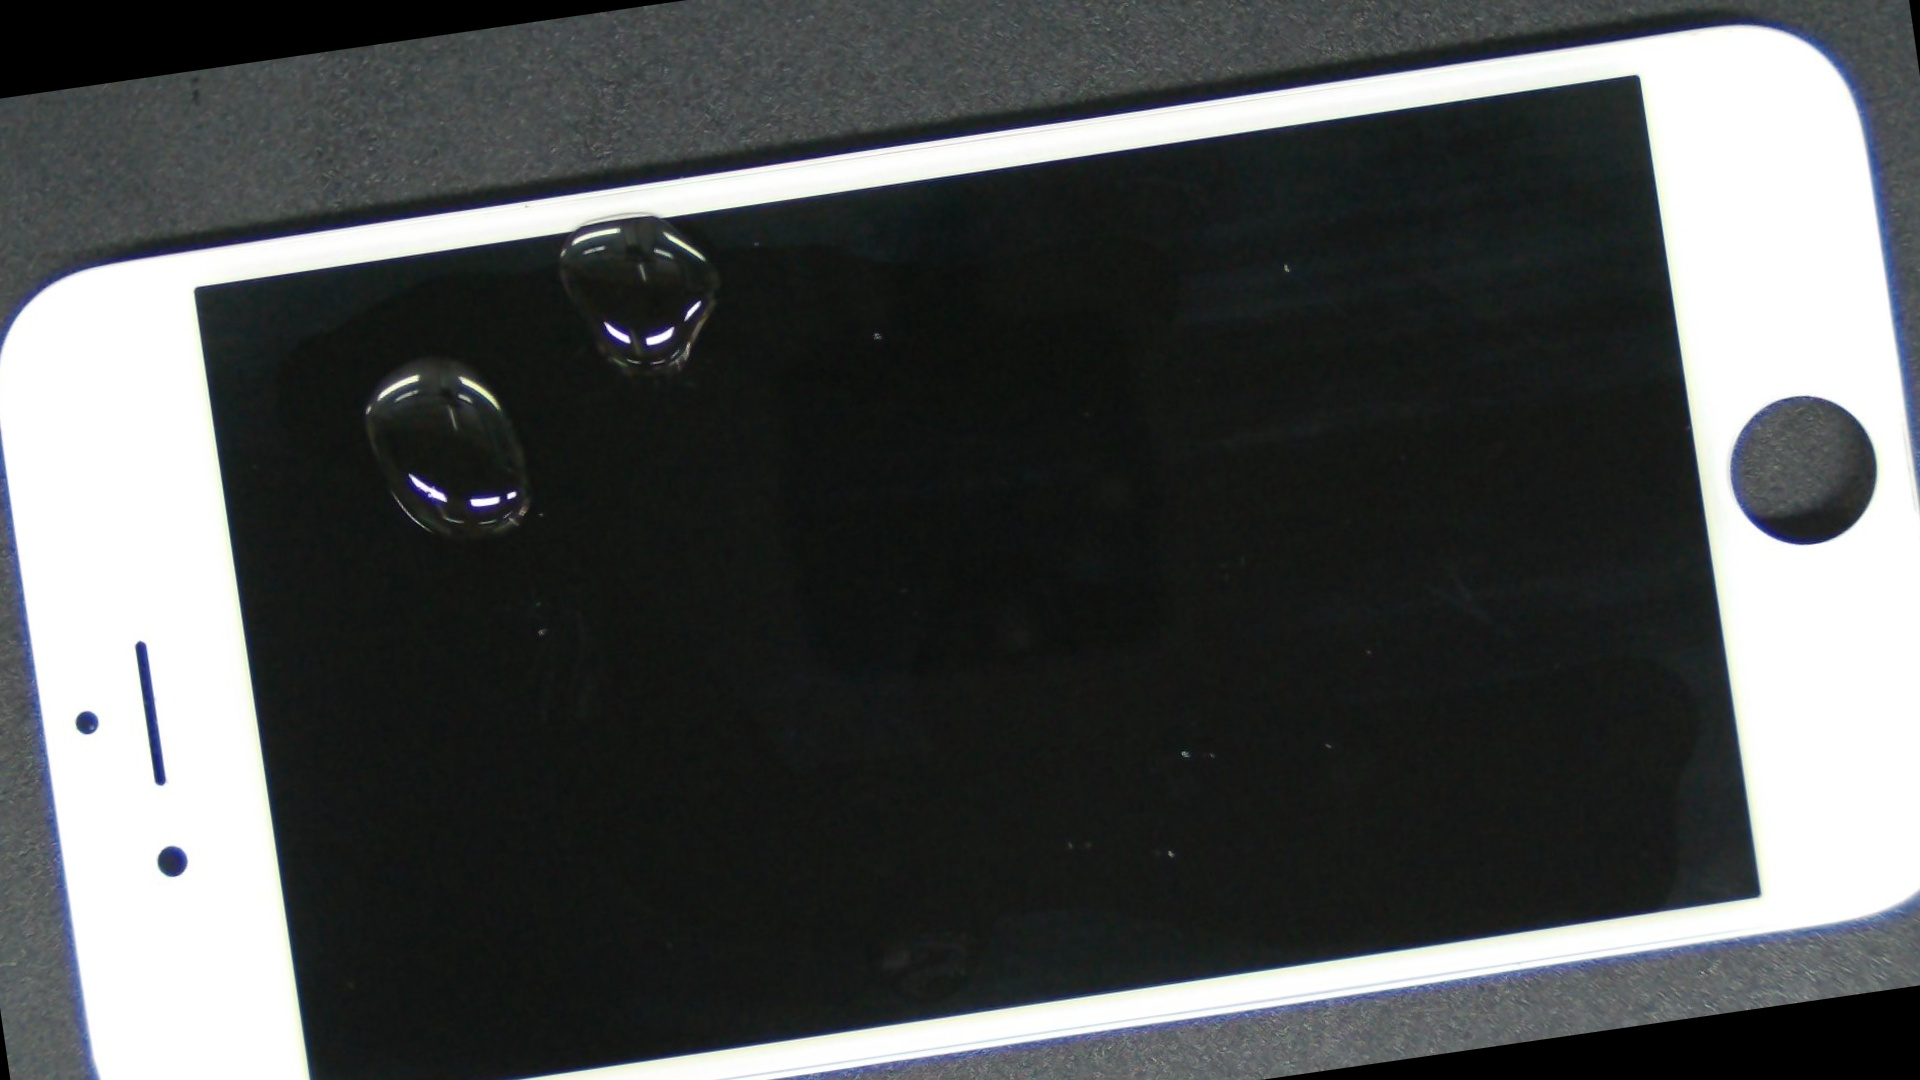oil: (239, 65, 971, 364), (148, 165, 696, 551)
